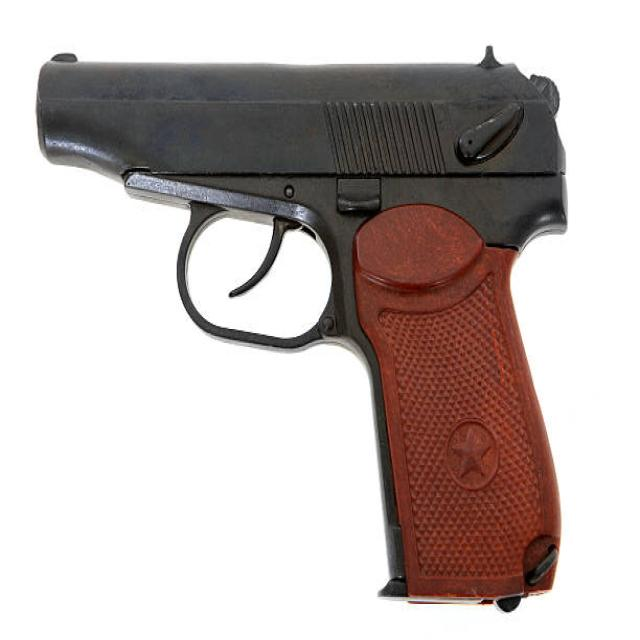pistol: (27, 44, 577, 619)
